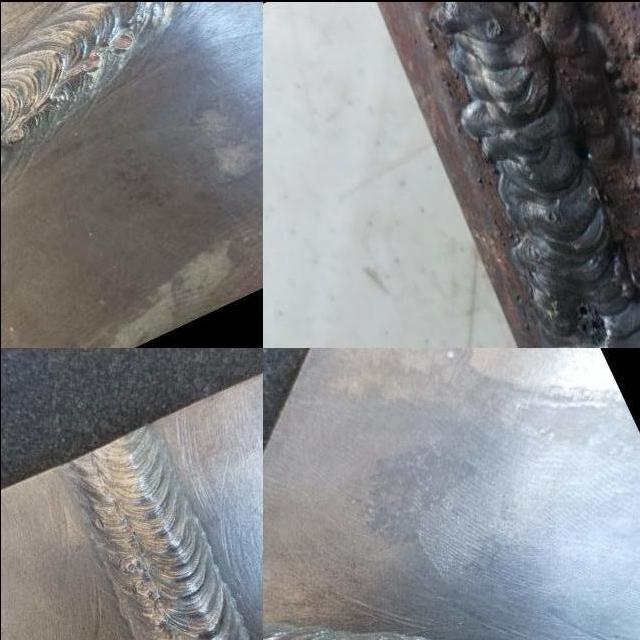defect: (564, 294, 610, 346), (511, 0, 539, 30), (1, 124, 28, 144), (130, 575, 154, 596), (483, 15, 503, 39), (110, 32, 135, 51), (44, 91, 67, 110), (116, 555, 141, 572), (545, 207, 564, 227), (83, 52, 101, 71), (151, 620, 163, 629)
